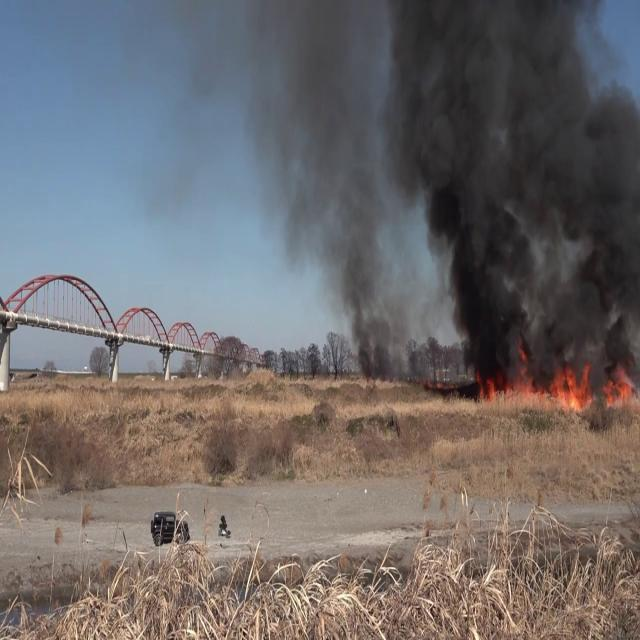Fire: (506, 354, 594, 414), (602, 358, 638, 408)
Smoke: (386, 0, 640, 377), (238, 1, 416, 368)
